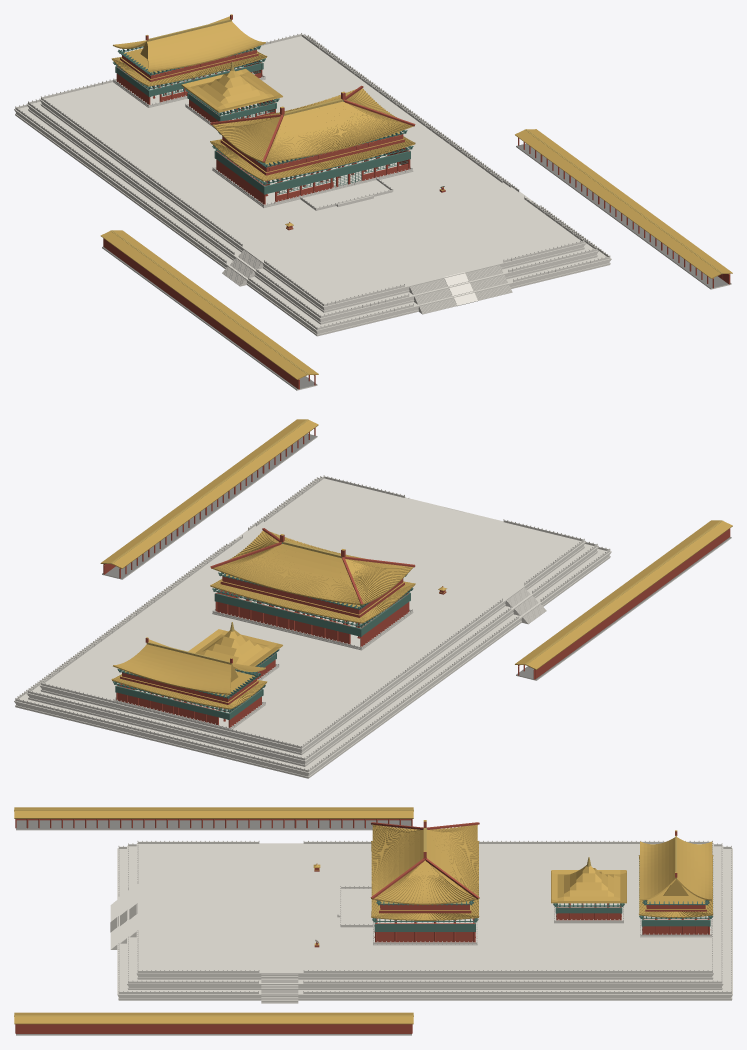
Rendered from r03_santai.glb.
3 renders of one model, top to bottom at view 1: azimuth 30°, elevation 25°; view 2: azimuth 150°, elevation 25°; view 3: azimuth 270°, elevation 25°, orthographic.
Parts seen in each view (by area): view 1: r03_santai; view 2: r03_santai; view 3: r03_santai.
Part boxes in pixels (x1,y1,x2,y2): r03_santai: (14, 14, 732, 390); r03_santai: (14, 419, 732, 778); r03_santai: (14, 807, 732, 1035).
Bounding box in the file's own units: 194 × 38.48 × 272.
